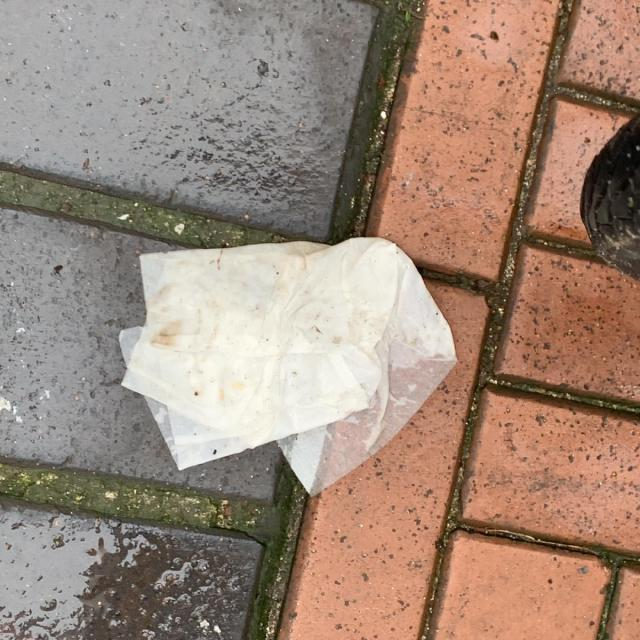Paper: (118, 234, 457, 498)
